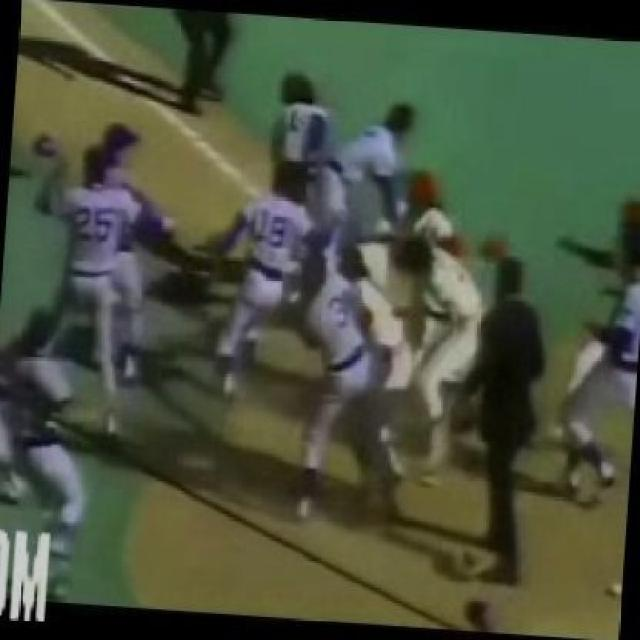fight: (198, 150, 481, 466)
